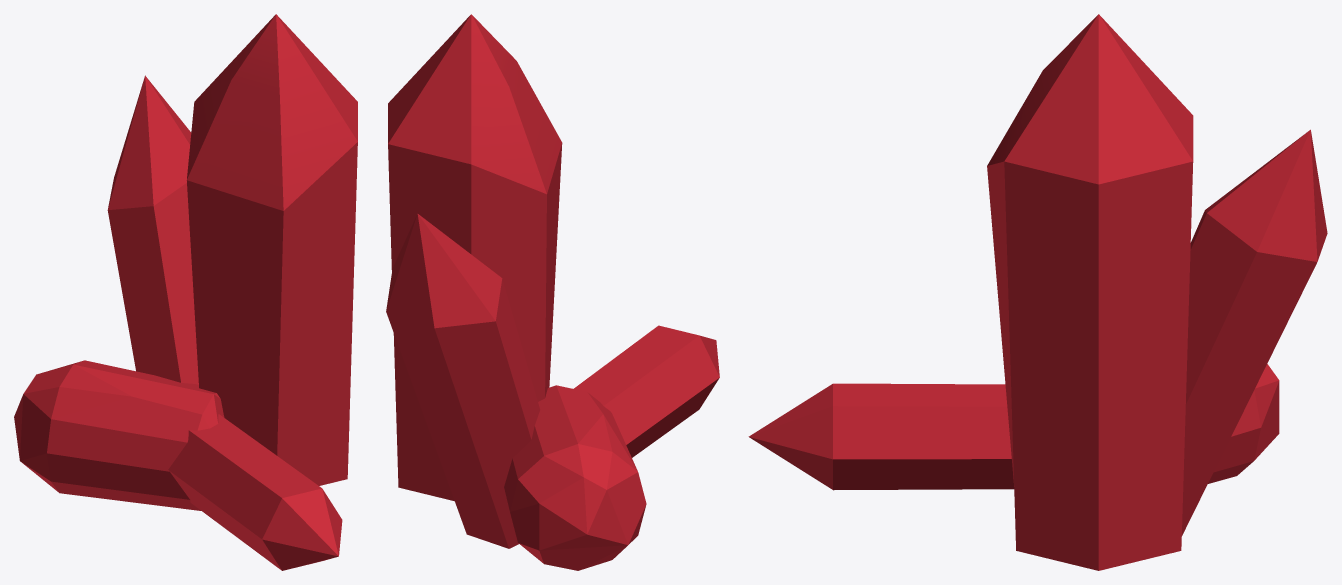
The model's file is Crystal Cluster 2.fbx.
3 renders of one model, left to right at view 1: azimuth 30°, elevation 25°; view 2: azimuth 150°, elevation 25°; view 3: azimuth 270°, elevation 25°, orthographic. The views are drawn at different scales.
Visible parts, largest first — view 1: Crystal_Cluster_2; view 2: Crystal_Cluster_2; view 3: Crystal_Cluster_2.
Part boxes in pixels (box(x1,y1,x2,y2)): Crystal_Cluster_2: box(14, 14, 357, 570); Crystal_Cluster_2: box(386, 14, 719, 570); Crystal_Cluster_2: box(748, 14, 1327, 570).
Bounding box in the file's own units: 67.87 × 109 × 103.
1 material, 1 textured.
